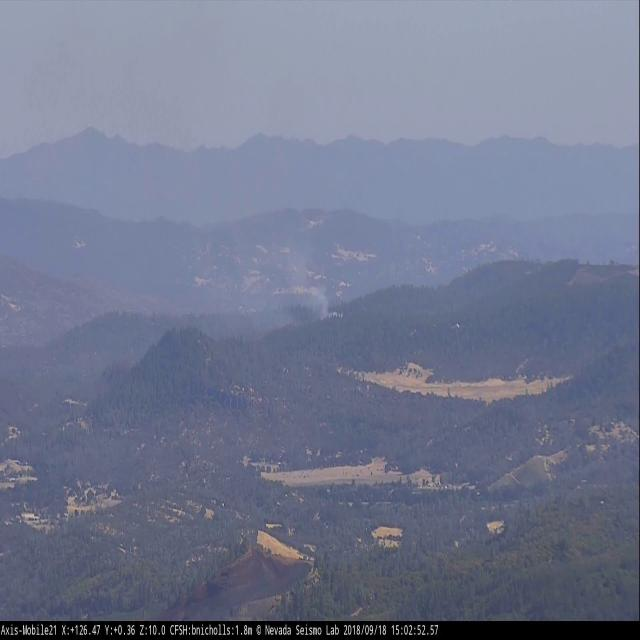smoke: (102, 189, 345, 335)
